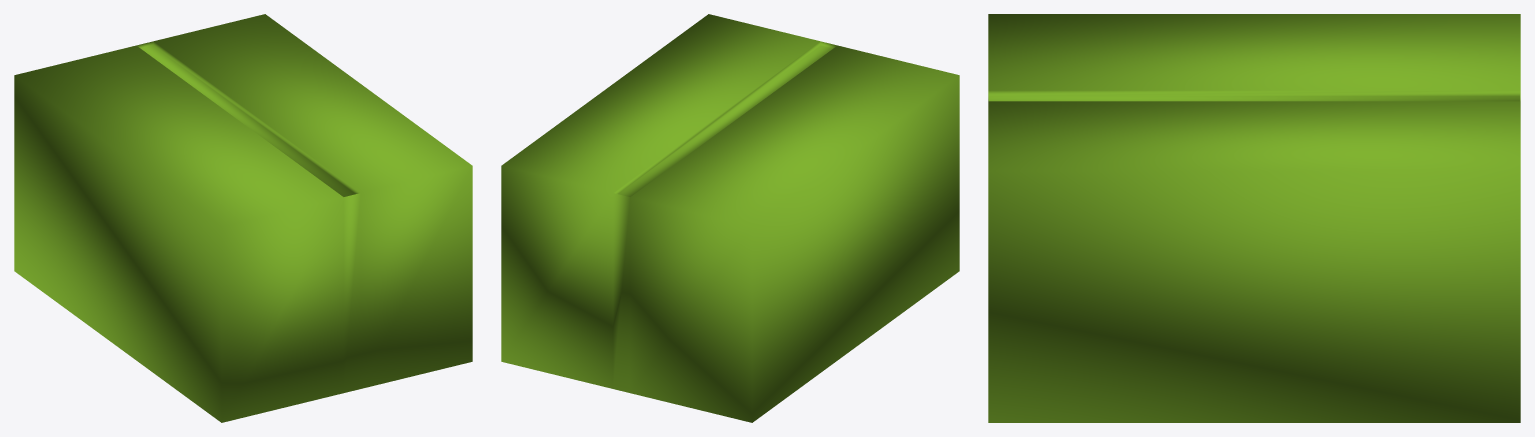
The picture shows the model from 3 angles, left to right: view 1: azimuth 30°, elevation 25°; view 2: azimuth 150°, elevation 25°; view 3: azimuth 270°, elevation 25°; orthographic projection. The views are drawn at different scales.
Visible parts, largest first — view 1: Box:Box001; view 2: Box:Box001; view 3: Box:Box001.
Boxes of the visible parts, x1,y1,x2,y2 form: Box:Box001: (14,14,472,422); Box:Box001: (501,14,959,422); Box:Box001: (988,14,1520,422).
Bounding box in the file's own units: 4.67 × 3.49 × 6.68.
